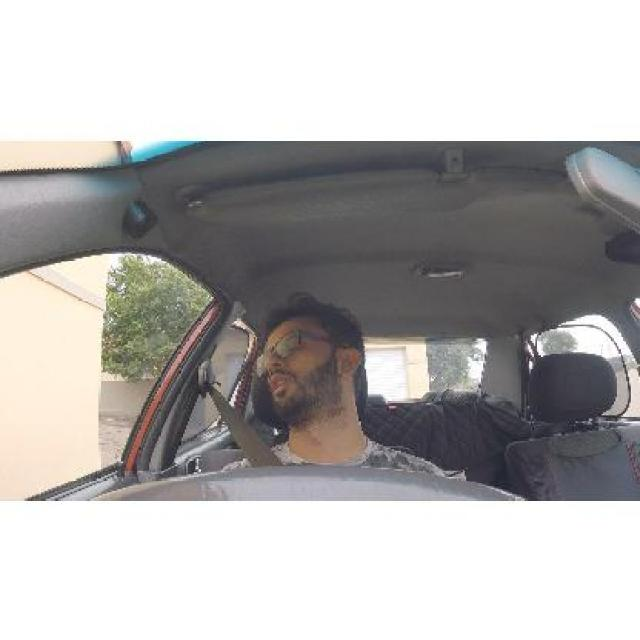drowsy: (248, 315, 376, 421)
